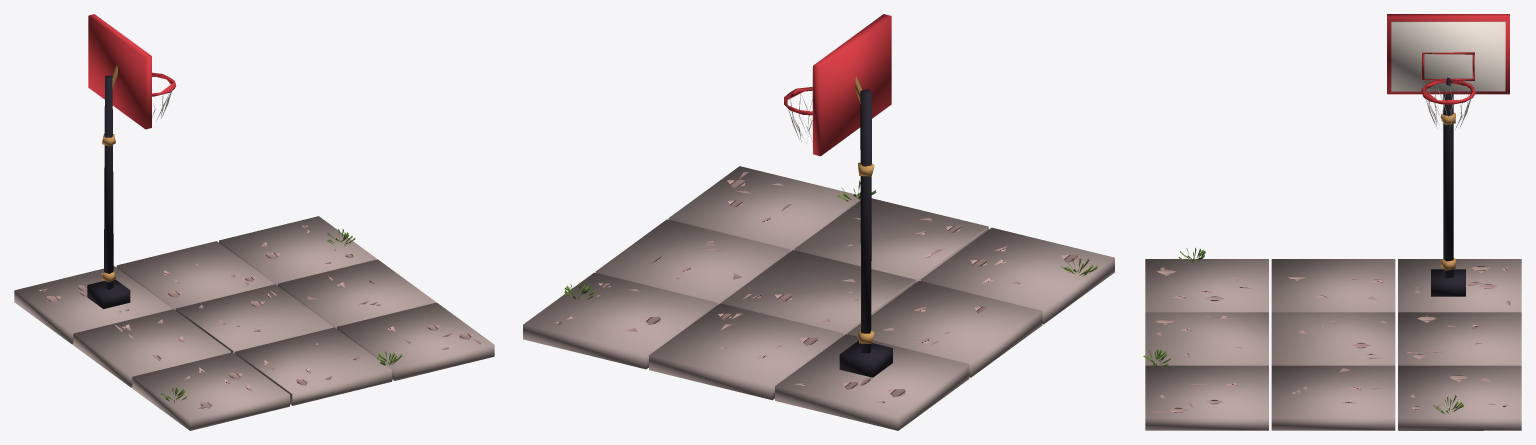
Rendered from house.driveway.hoop.lod1.glb.
3 renders of one model, left to right at view 1: azimuth 30°, elevation 25°; view 2: azimuth 150°, elevation 25°; view 3: azimuth 270°, elevation 25°, orthographic. The views are drawn at different scales.
Bounding box in the file's own units: 3.03 × 2.57 × 2.99.
